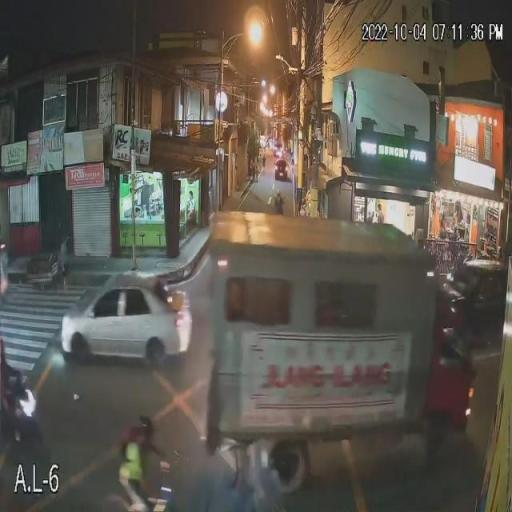motorcycle: (0, 382, 48, 452)
rider: (0, 328, 17, 383)
